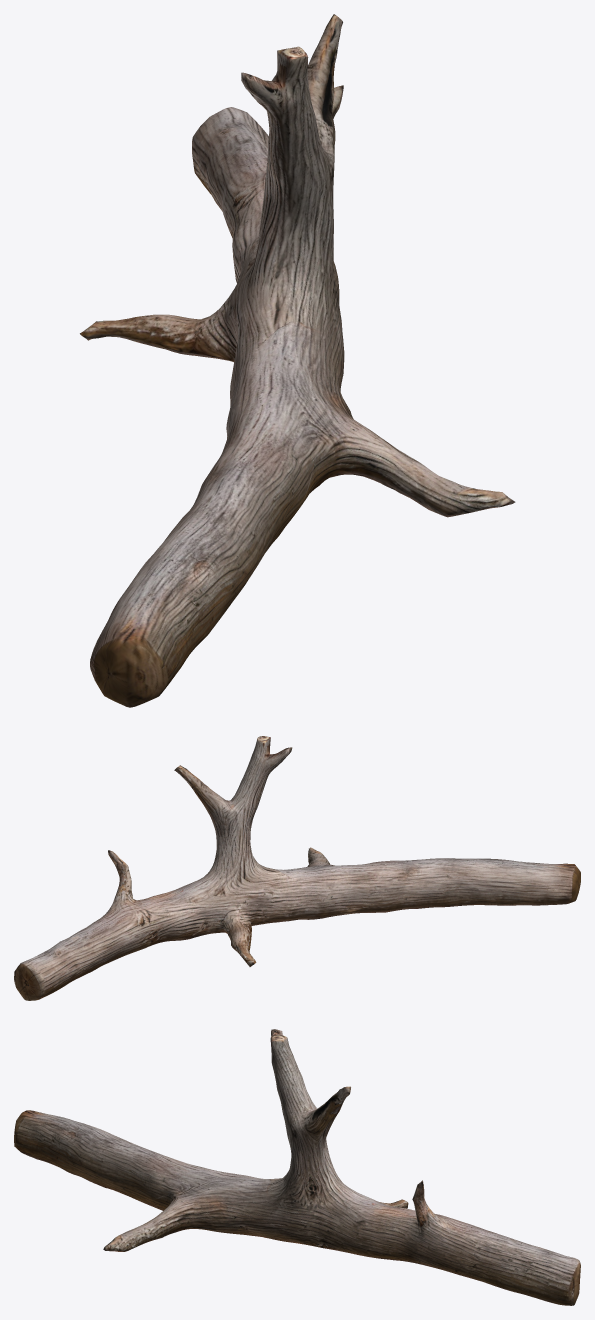
Rendered from a_dead_tree_with_stra_0927205638_refine.fbx.
3 renders of one model, top to bottom at view 1: azimuth 30°, elevation 25°; view 2: azimuth 150°, elevation 25°; view 3: azimuth 270°, elevation 25°, orthographic. The views are drawn at different scales.
Visible parts, largest first — view 1: Mesh_0; view 2: Mesh_0; view 3: Mesh_0.
Part boxes in pixels (x1,y1,x2,y2): Mesh_0: [80, 14, 515, 707]; Mesh_0: [14, 736, 580, 1000]; Mesh_0: [14, 1029, 580, 1305].
Size of the model in its own units: 87.53 by 51.34 by 120.
Materials: 1 (1 with a texture image).
